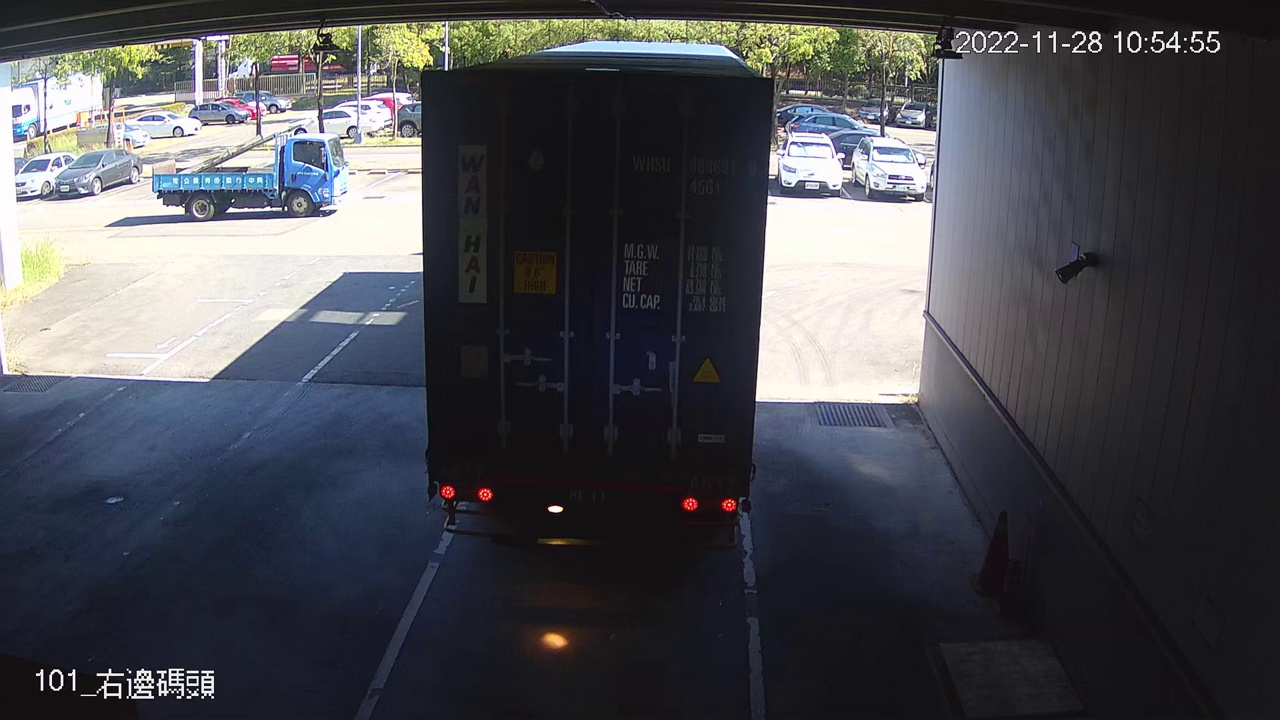container: (629, 148, 760, 200)
